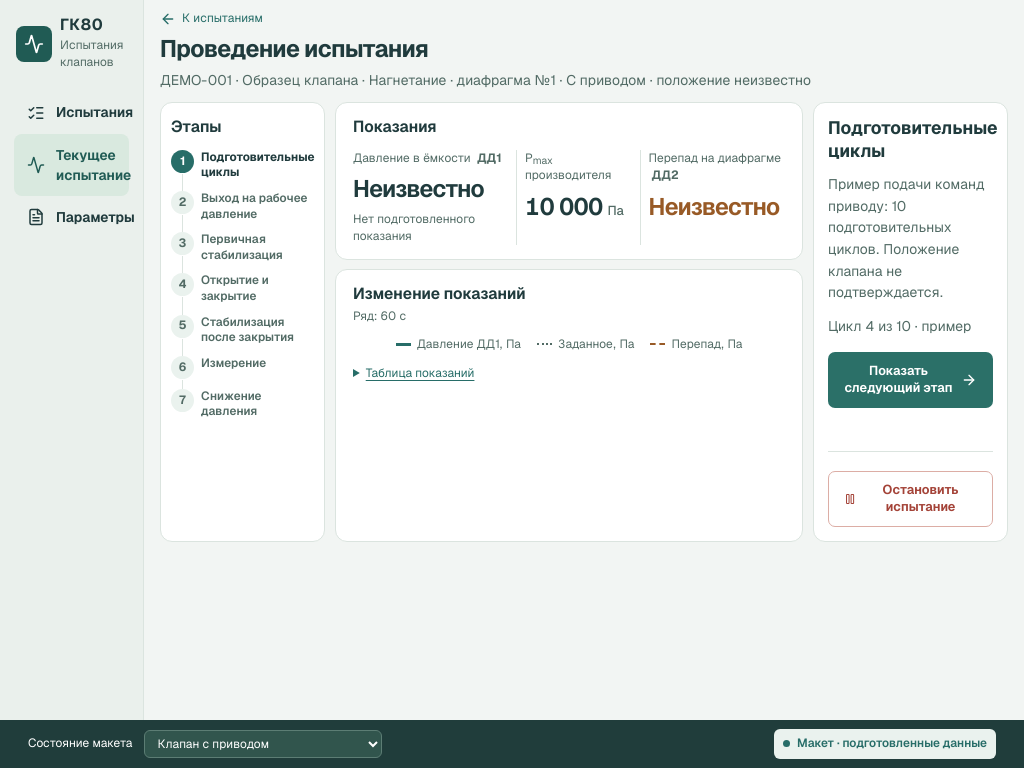
Scenario: подготовленные состояния оператора › в примере с приводом не требует ручного подтверждения серии
Check: the text "Цикл 4 из 10 · пример" is shown, box top-left (828, 316), bottom-right (993, 338)
Click the button "Показать следующий этап" at coordinates (910, 380), box top-left (828, 352), bottom-right (993, 408)
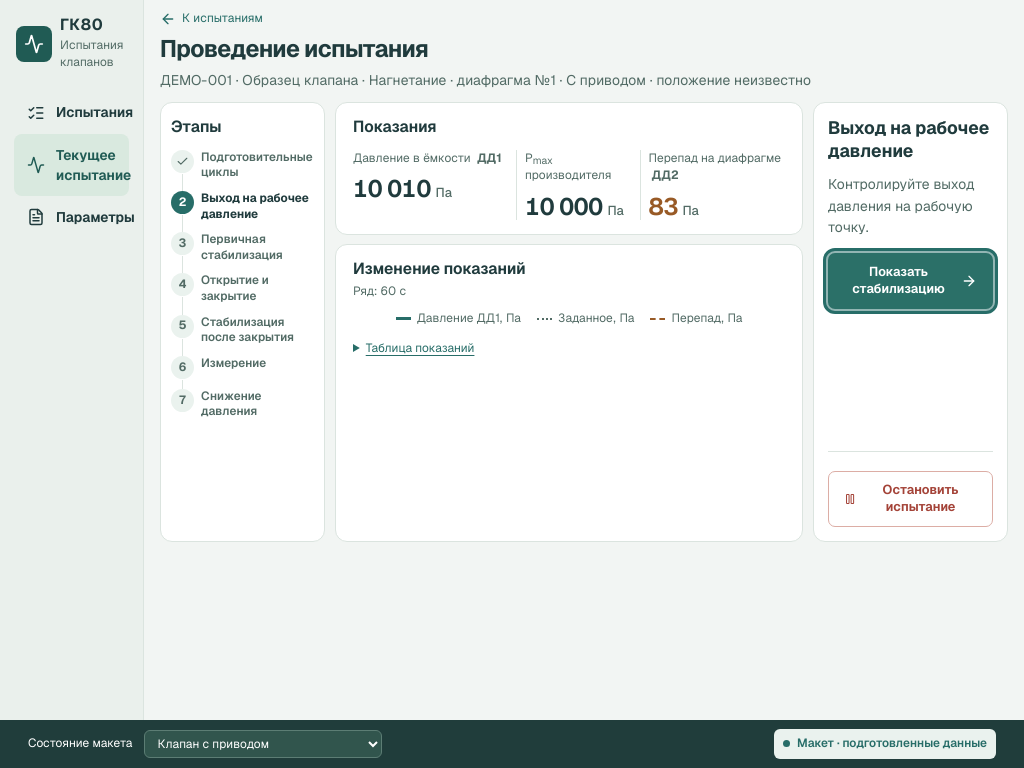
Check: the heading "Выход на рабочее давление" is shown, box top-left (828, 117), bottom-right (993, 162)
